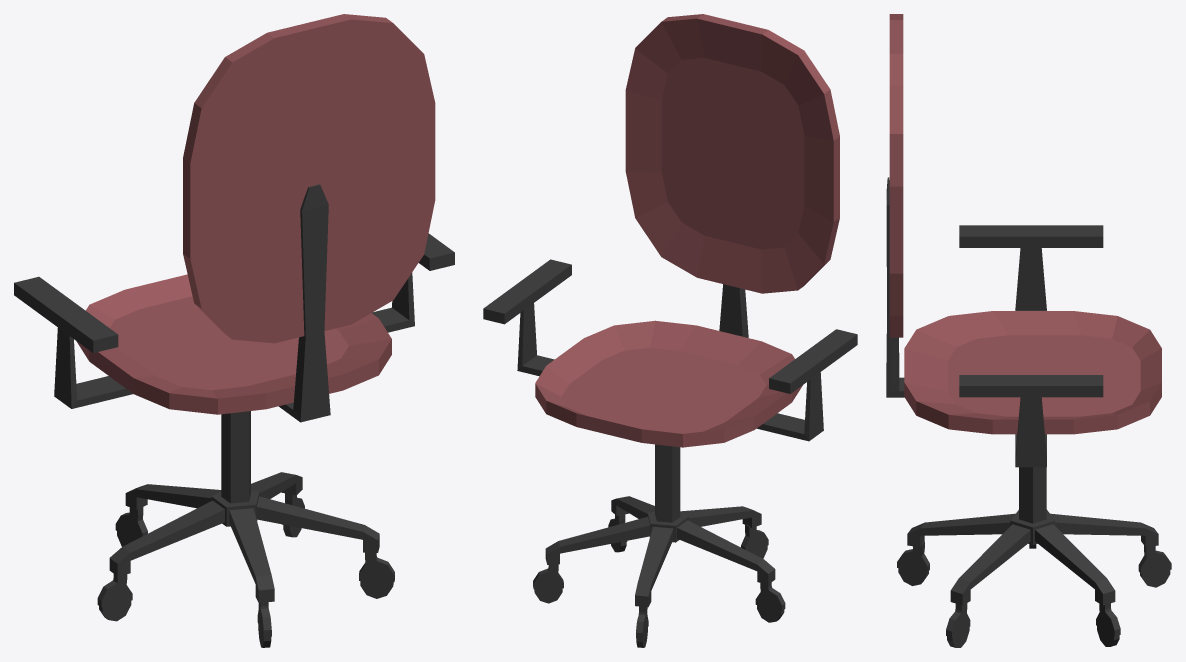
The model's file is siege.fbx.
3 renders of one model, left to right at view 1: azimuth 30°, elevation 25°; view 2: azimuth 150°, elevation 25°; view 3: azimuth 270°, elevation 25°, orthographic. The views are drawn at different scales.
Parts seen in each view (by area): view 1: Cylinder.001; view 2: Cylinder.001; view 3: Cylinder.001.
Part boxes in pixels (x1=…): Cylinder.001: x1=14, y1=14, x2=454, y2=647; Cylinder.001: x1=483, y1=14, x2=857, y2=647; Cylinder.001: x1=886, y1=14, x2=1171, y2=647.
Bounding box in the file's own units: 95.36 × 156 × 71.63.
